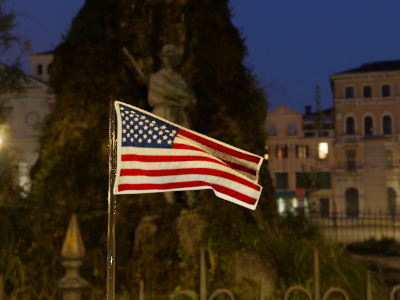America flag: (114, 99, 264, 211)
